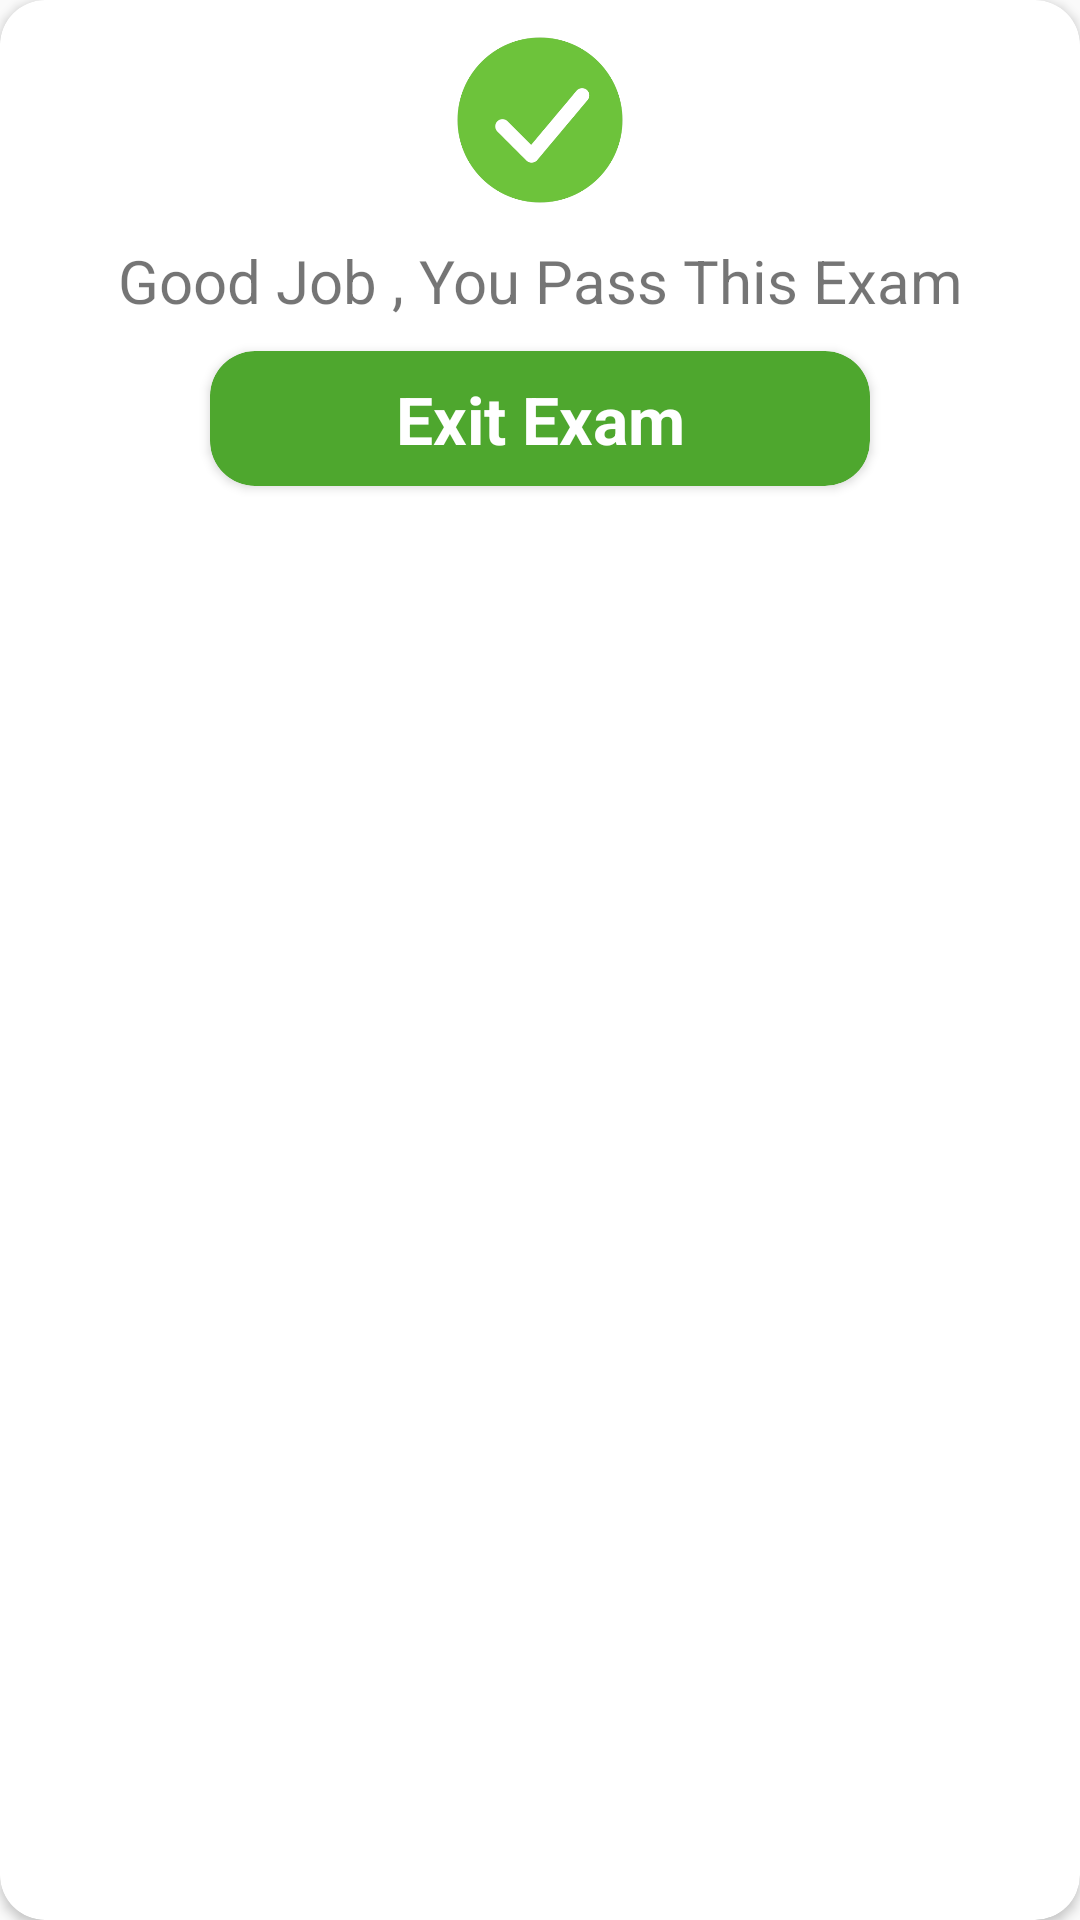

Where icons sit on this 1080 x 1920 app screen, as (x1, y1, x2, y2):
right: (457, 37, 623, 203)
